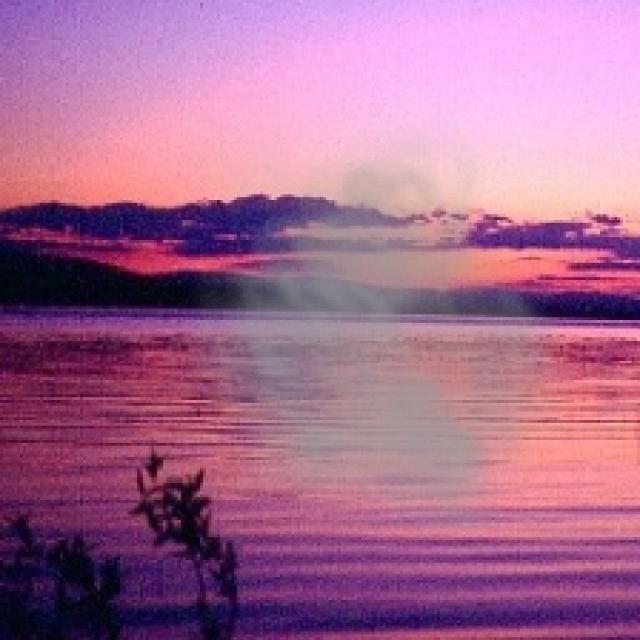smoke: (168, 114, 583, 529)
